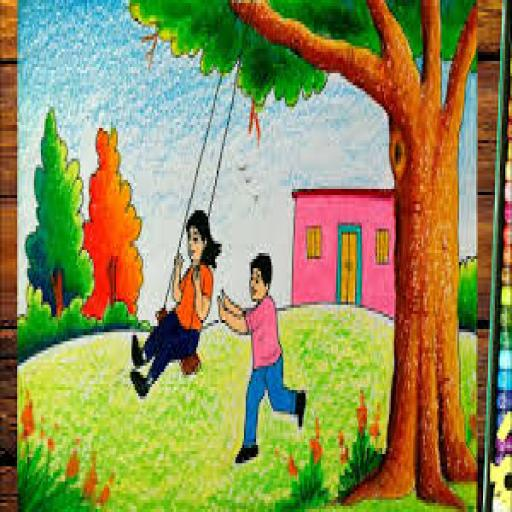person: (219, 248, 312, 464), (126, 204, 222, 405)
